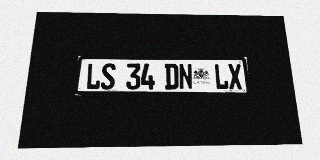3: (126, 63, 140, 89)
4: (141, 63, 155, 89)
D: (164, 63, 179, 89)
L: (85, 63, 101, 90), (214, 64, 229, 89)
N: (178, 64, 193, 89)
S: (100, 63, 116, 90)
X: (227, 64, 243, 89)
